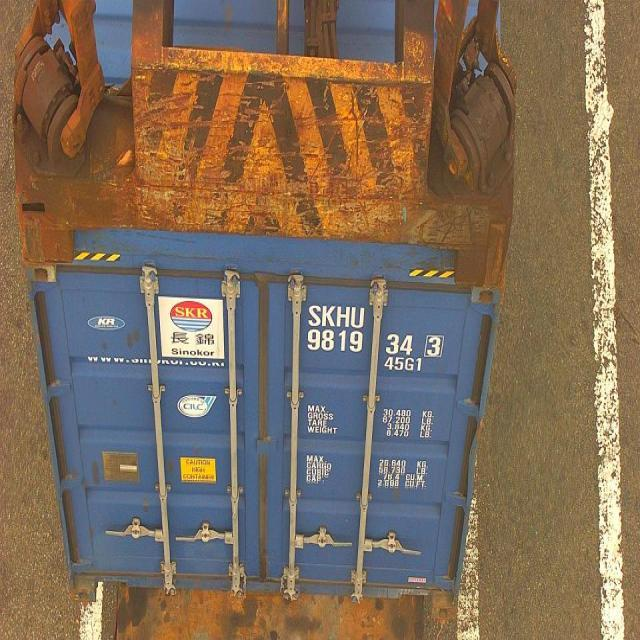ISO: (385, 356, 425, 374)
container_number: (312, 312, 452, 356)
